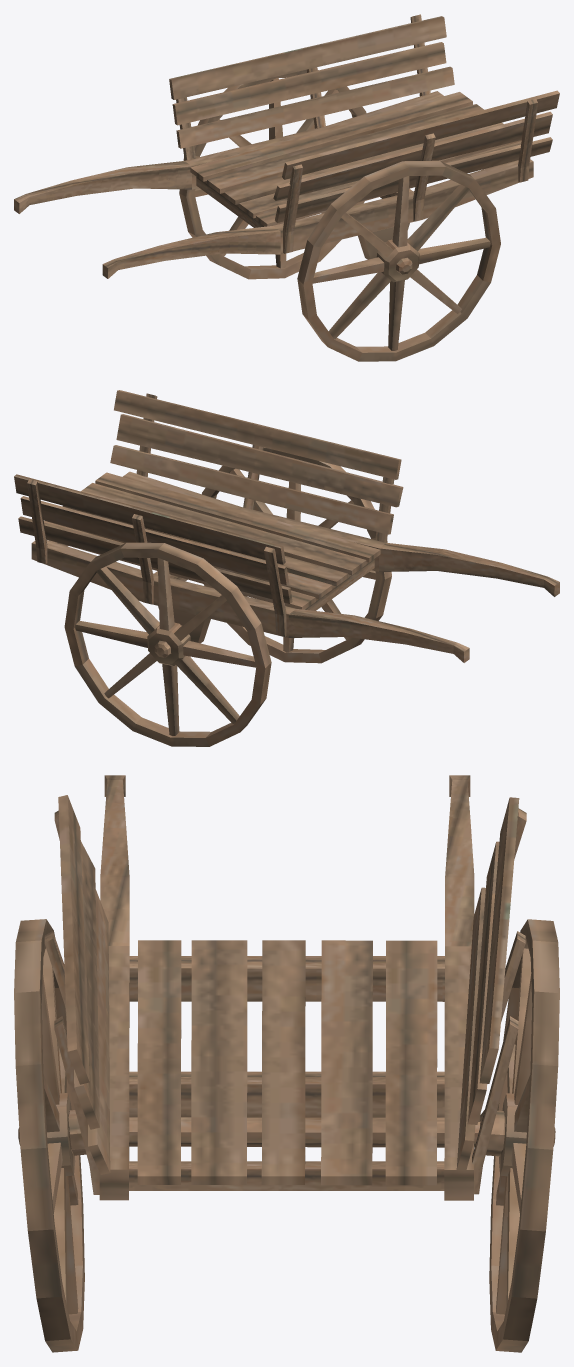
The model's file is hand cart.fbx.
3 views of the same model, one above another, from view 1: azimuth 30°, elevation 25°; view 2: azimuth 150°, elevation 25°; view 3: azimuth 270°, elevation 25° (orthographic). The views are drawn at different scales.
Visible parts, largest first — view 1: hand_cart1; view 2: hand_cart1; view 3: hand_cart1.
Boxes of the visible parts, x1,y1,x2,y2 form: hand_cart1: (14, 14, 559, 361); hand_cart1: (14, 390, 559, 746); hand_cart1: (14, 775, 559, 1352).
Bounding box in the file's own units: 18272 × 8963 × 10046.
Materials: 1 (1 with a texture image).
